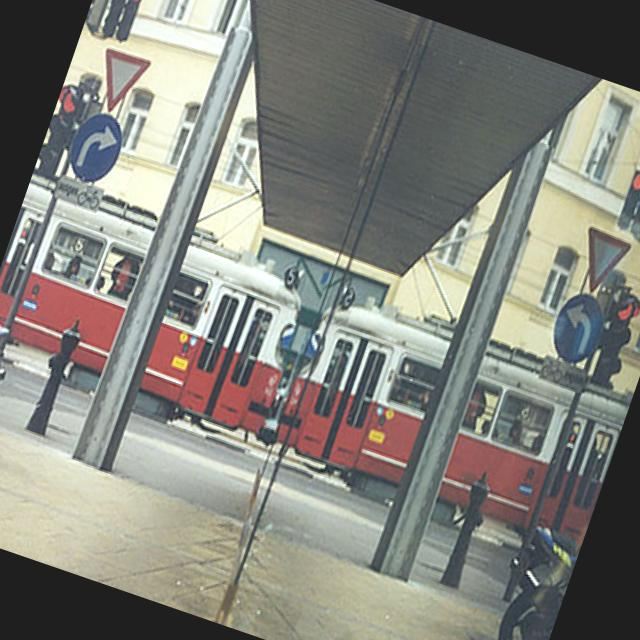Vehicle: (480, 512, 585, 640), (0, 317, 22, 475)
